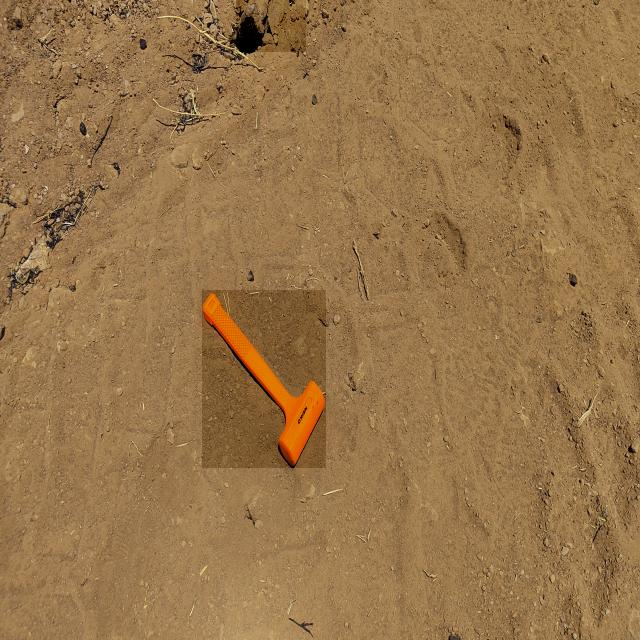Orange_hammer: (202, 291, 326, 468)
rock: (236, 0, 306, 52)
